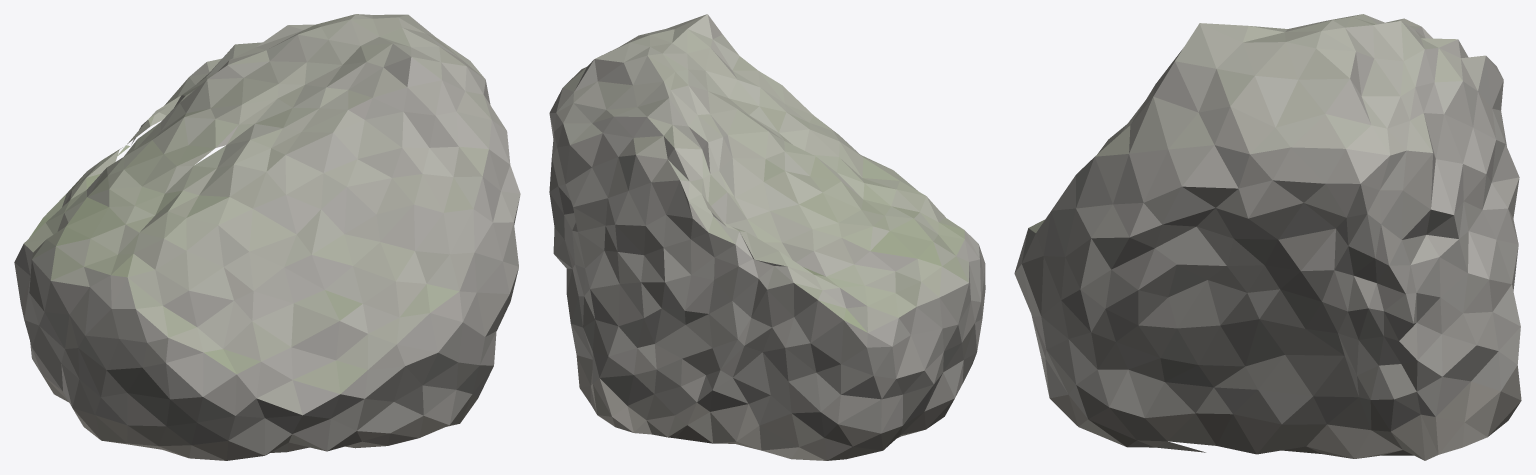
The picture shows the model from 3 angles, left to right: view 1: azimuth 30°, elevation 25°; view 2: azimuth 150°, elevation 25°; view 3: azimuth 270°, elevation 25°; orthographic projection. The views are drawn at different scales.
Parts seen in each view (by area): view 1: pedra_granito_c; view 2: pedra_granito_c; view 3: pedra_granito_c.
Part boxes in pixels (box(x1,y1,x2,y2)): pedra_granito_c: box(14, 14, 520, 460); pedra_granito_c: box(549, 14, 985, 460); pedra_granito_c: box(1014, 14, 1521, 460).
Bounding box in the file's own units: 1.46 × 1.12 × 1.24.
